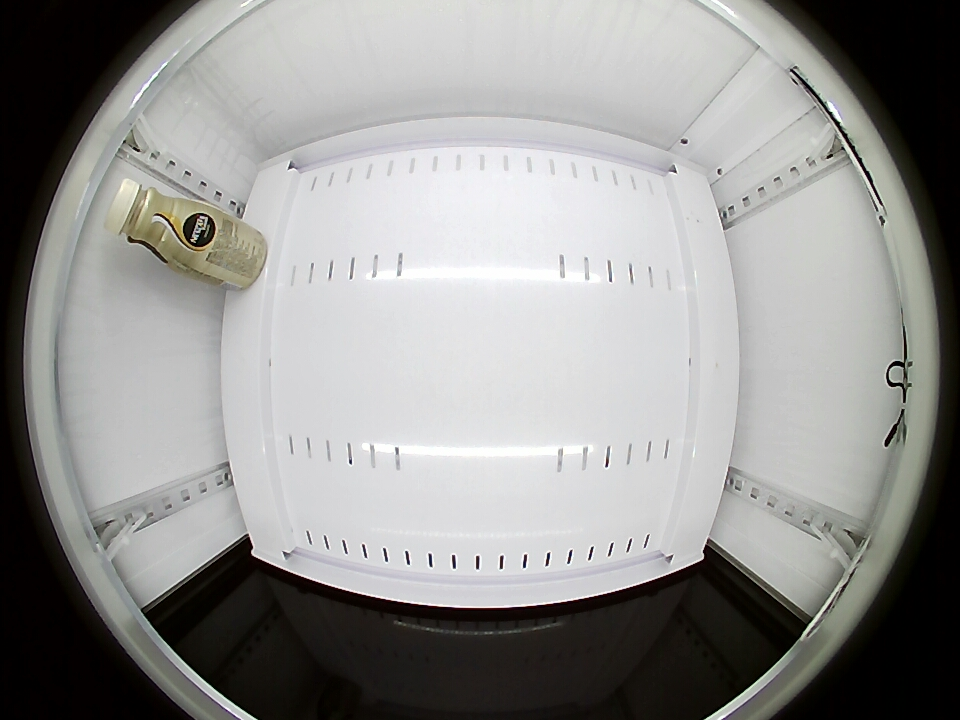kafei: (104, 179, 204, 269)
